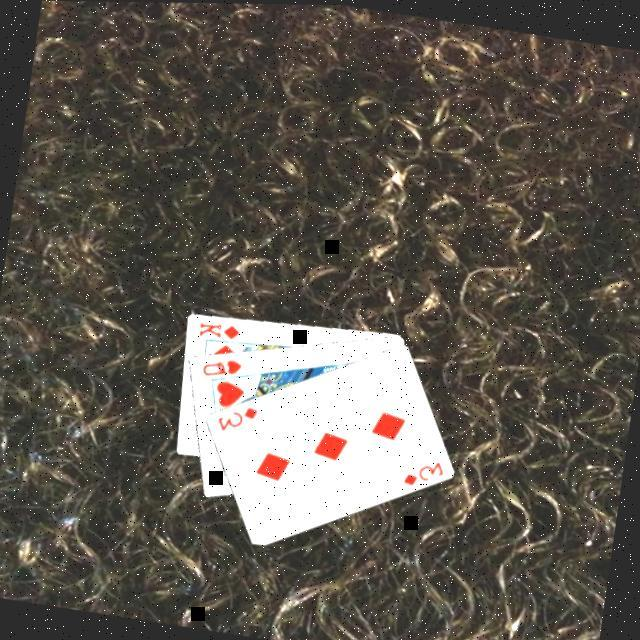3D: (211, 399, 260, 440), (398, 453, 447, 494)
KD: (192, 318, 242, 347)
QH: (197, 352, 244, 385)
